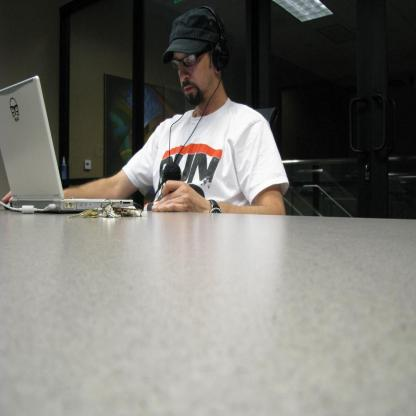board: (0, 75, 133, 211)
